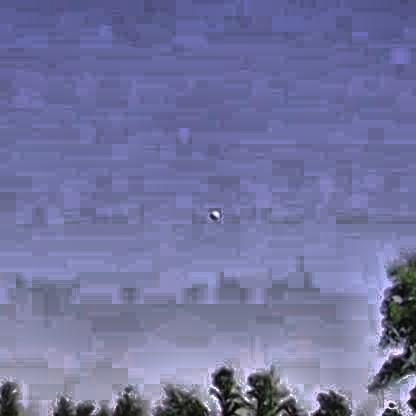golfball: (206, 207, 217, 217)
